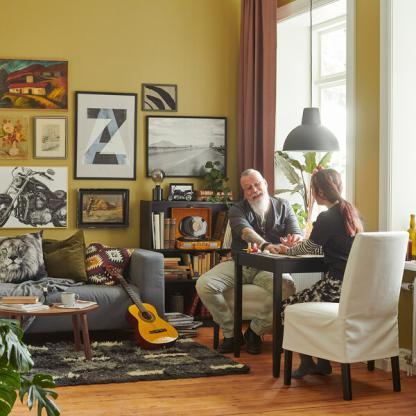chair: (280, 219, 413, 404)
light: (279, 0, 343, 159)
sofa: (0, 244, 176, 337)
table: (234, 238, 325, 379), (0, 297, 104, 360)
